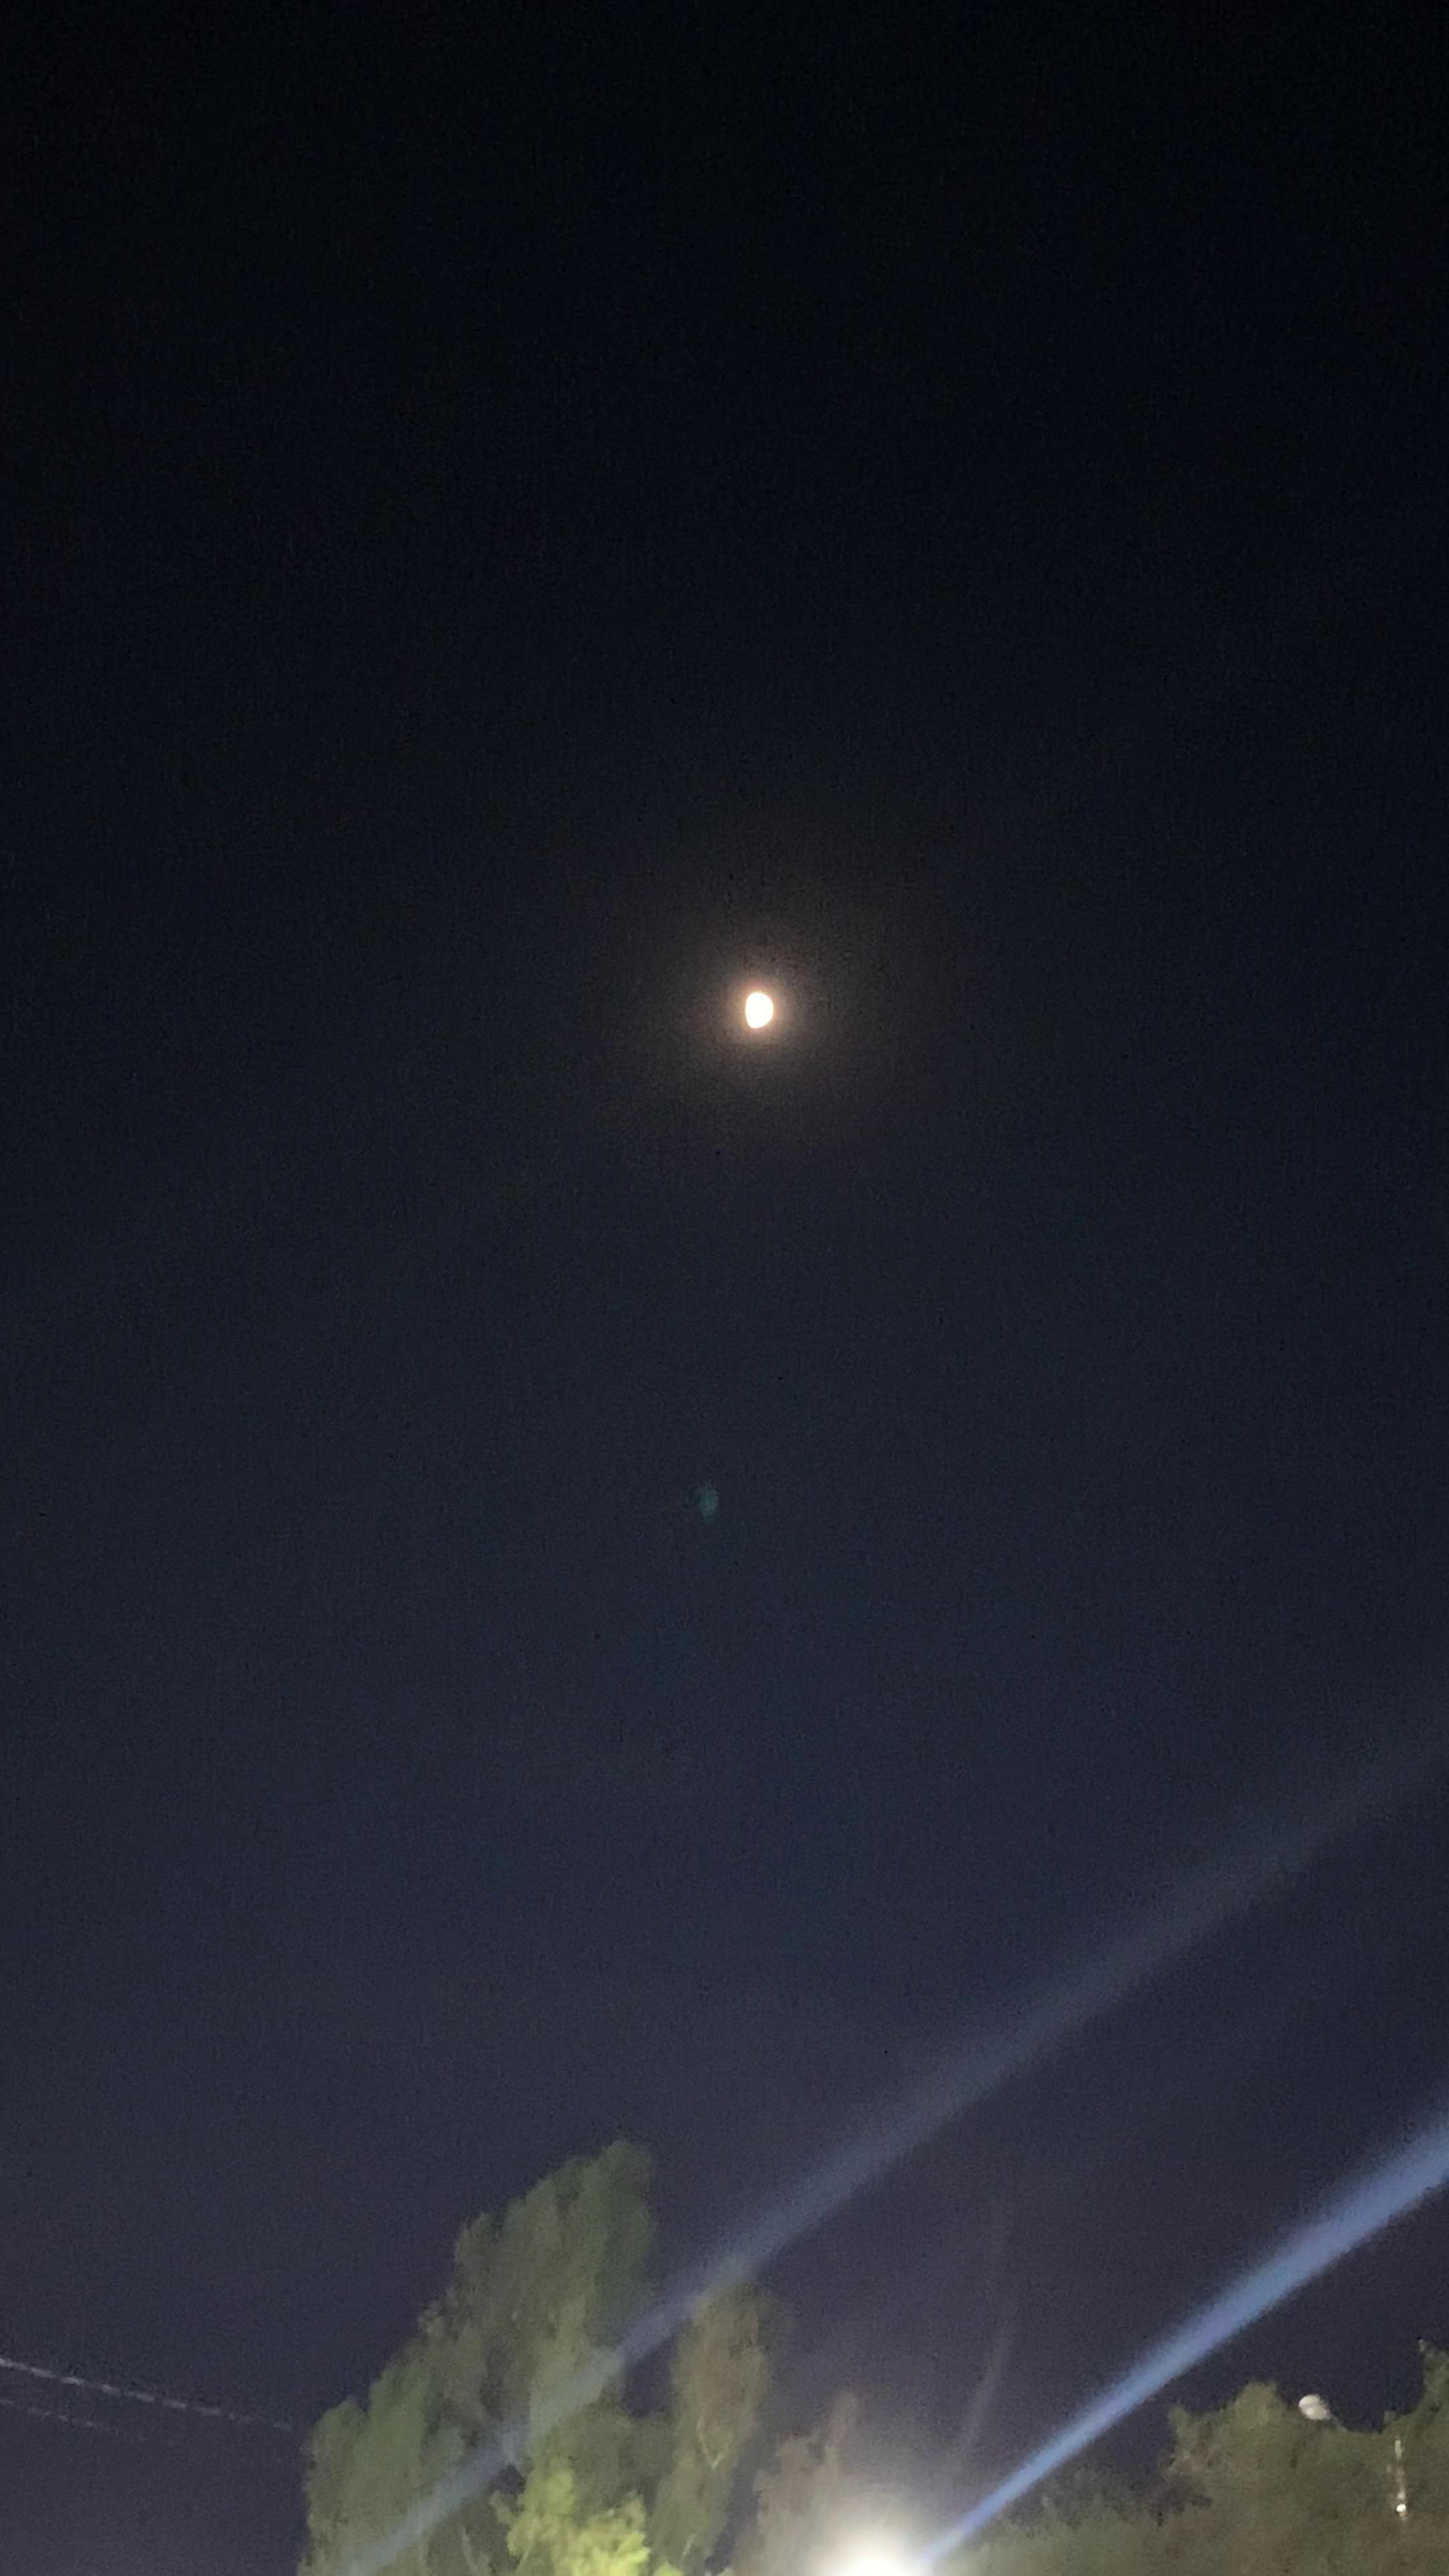moon: (706, 957, 807, 1076)
